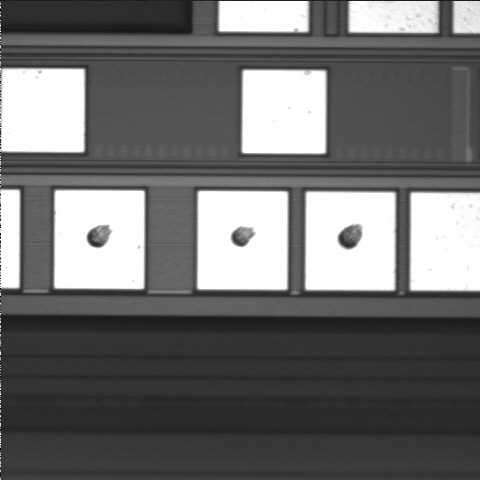pad: (54, 190, 144, 289), (198, 191, 288, 290), (305, 192, 395, 290), (242, 70, 326, 154)
